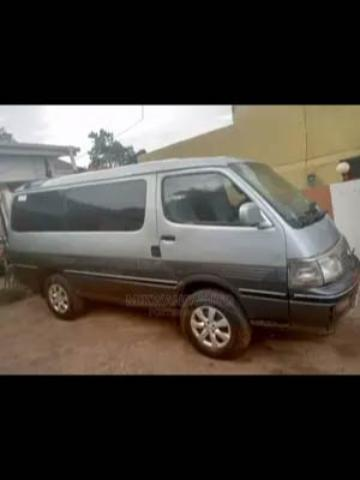van: (12, 156, 359, 357)
